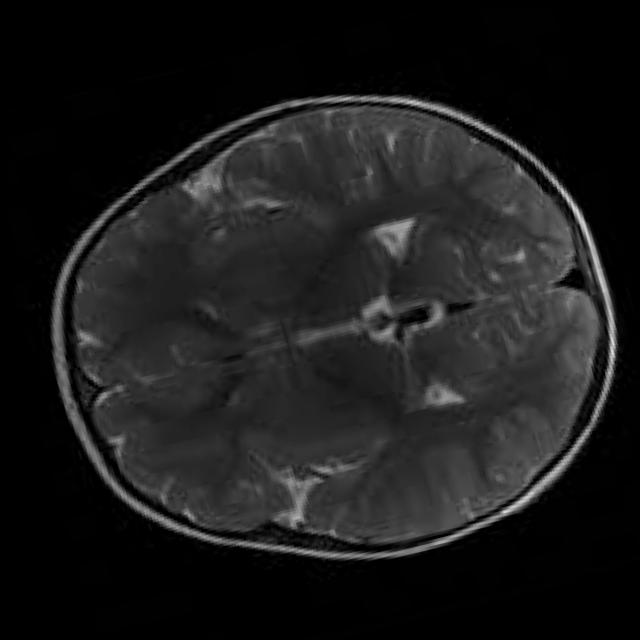NoTumor: (7, 44, 640, 619)
